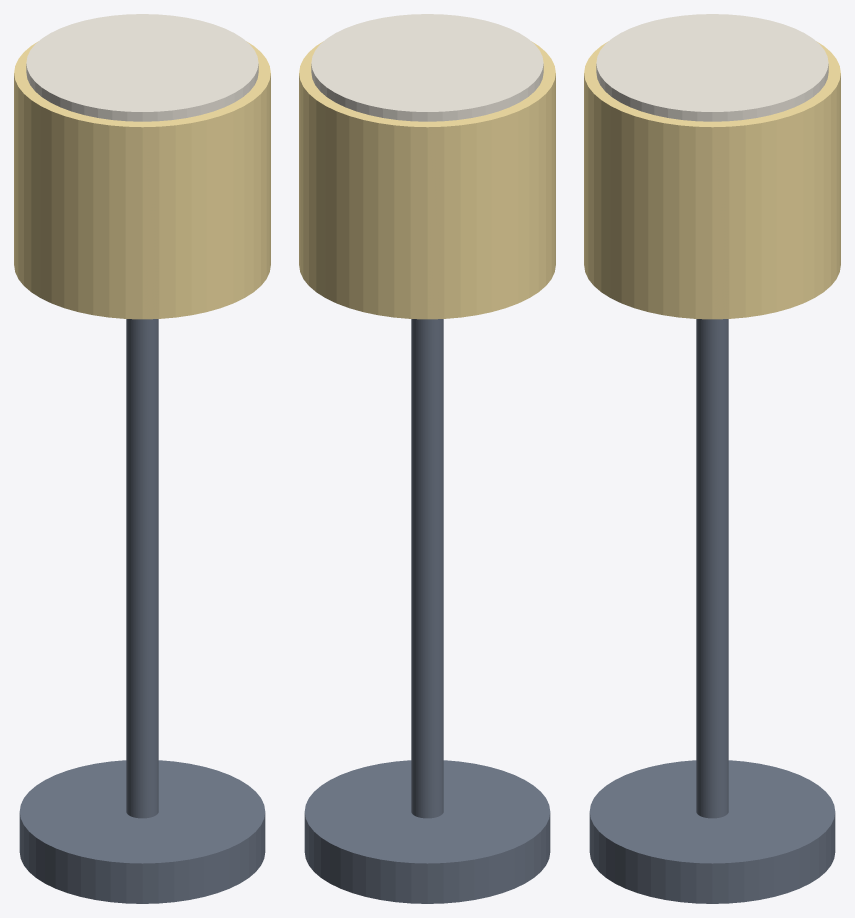
The model's file is floor-lamp.glb.
The picture shows the model from 3 angles, left to right: view 1: azimuth 30°, elevation 25°; view 2: azimuth 150°, elevation 25°; view 3: azimuth 270°, elevation 25°; orthographic projection.
Visible parts, largest first — view 1: shade, foot, top, stem; view 2: shade, foot, top, stem; view 3: shade, foot, top, stem.
Boxes of the visible parts, x1=… form: shade: x1=14, y1=41, x2=270, y2=319; foot: x1=19, y1=760, x2=265, y2=903; top: x1=26, y1=14, x2=258, y2=121; stem: x1=126, y1=319, x2=158, y2=818; shade: x1=299, y1=41, x2=555, y2=319; foot: x1=304, y1=760, x2=550, y2=903; top: x1=311, y1=14, x2=543, y2=121; stem: x1=411, y1=319, x2=443, y2=818; shade: x1=584, y1=41, x2=840, y2=319; foot: x1=589, y1=760, x2=835, y2=903; top: x1=596, y1=14, x2=828, y2=121; stem: x1=696, y1=319, x2=728, y2=818.
Bounding box in the file's own units: 0.46 × 1.56 × 0.46.
